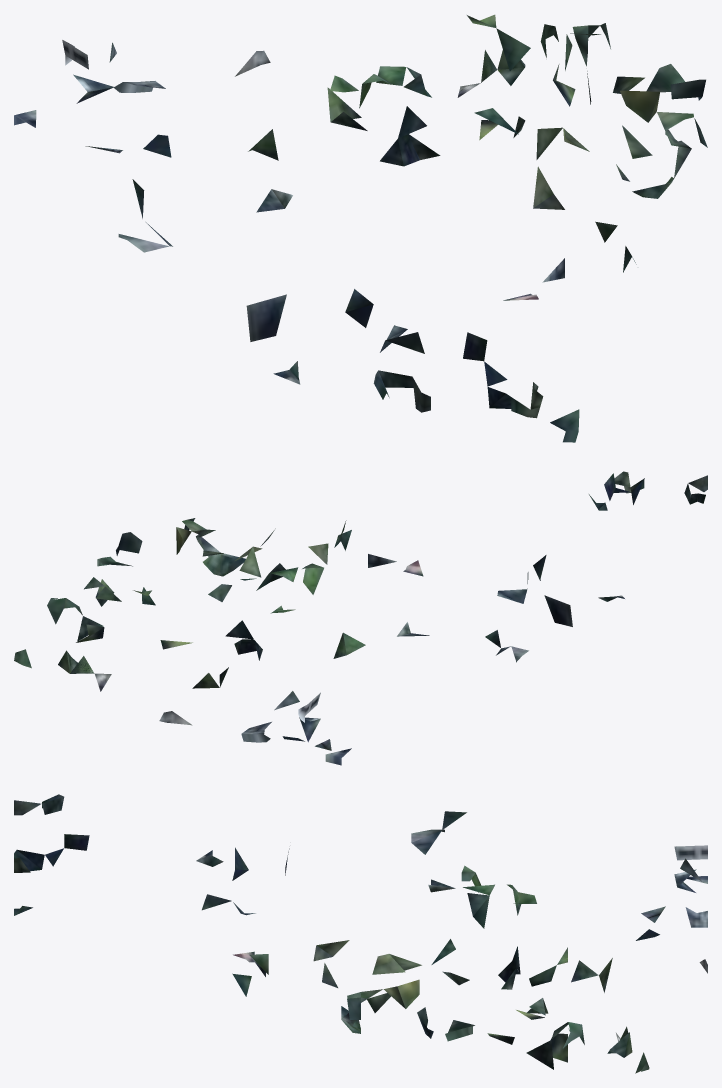
3 views of the same model, one above another, from view 1: azimuth 30°, elevation 25°; view 2: azimuth 150°, elevation 25°; view 3: azimuth 270°, elevation 25° (orthographic). The views are drawn at different scales.
Parts seen in each view (by area): view 1: 304362727043615355_1; view 2: 304362727043615355_1; view 3: 304362727043615355_1.
Part boxes in pixels (x1,y1,x2,y2): 304362727043615355_1: (14,14,707,442); 304362727043615355_1: (14,471,707,765); 304362727043615355_1: (14,794,707,1073).
Size of the model in its own units: 109 by 26.49 by 153.
1 material, 1 textured.
